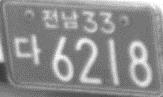1: (102, 36, 122, 90)
2: (75, 36, 103, 84)
3: (80, 10, 99, 35), (99, 11, 115, 36)
6: (49, 36, 75, 81)
8: (126, 39, 154, 89)
다: (13, 33, 42, 65)
전남_O: (40, 7, 78, 31)
